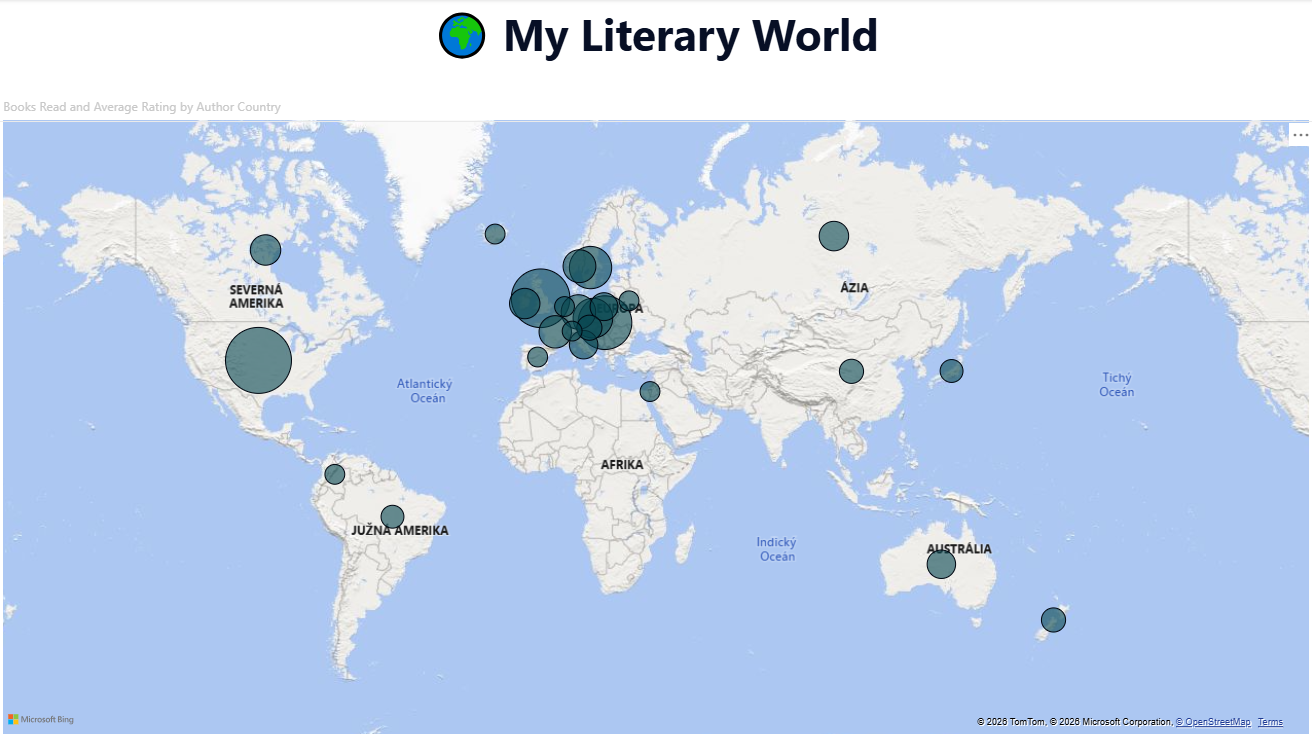

The dashboard page shown, as its layout file describes it:
{"tool":"powerbi","page":{"name":"My Literary World","canvas":[1280,720],"ordinal":4},"visuals":[{"type":"map","fields":{"Category":["FactBooks.Author Country"],"Size":["FactBooks.Books Read"]},"box":[0,96,1280,624],"z":0},{"type":"textbox","box":[0,0,1280,120],"z":1000}]}

Visuals, with their boxes in screenshot pixels (x1, y1, x2, y2), scaled from the page's 1280x720 canvas onto the 1312x737 screenshot:
map - FactBooks.Author Country x FactBooks.Books Read: x1=0 y1=98 x2=1311 y2=736
textbox: x1=0 y1=0 x2=1311 y2=123
